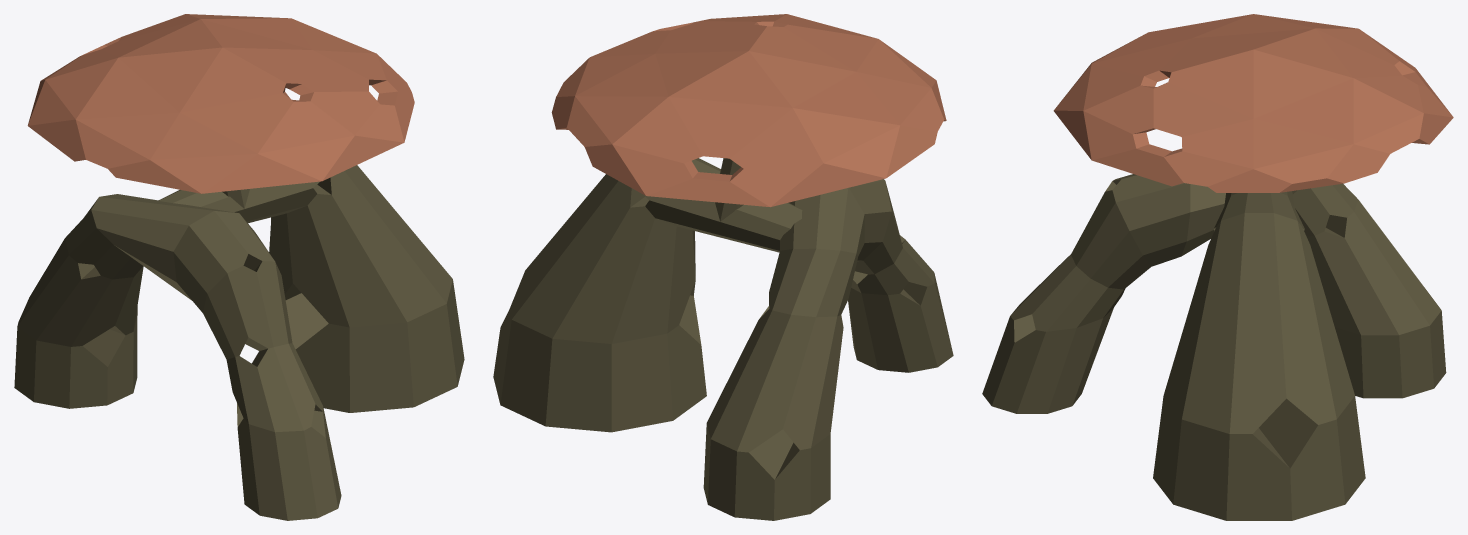
The model's file is Plant_02.fbx.
3 renders of one model, left to right at view 1: azimuth 30°, elevation 25°; view 2: azimuth 150°, elevation 25°; view 3: azimuth 270°, elevation 25°, orthographic. The views are drawn at different scales.
Visible parts, largest first — view 1: Plant_02_Merged; view 2: Plant_02_Merged; view 3: Plant_02_Merged.
Boxes of the visible parts, left/top/right/bottom form: Plant_02_Merged: left=14, top=14, right=464, bottom=520; Plant_02_Merged: left=493, top=14, right=953, bottom=520; Plant_02_Merged: left=982, top=14, right=1453, bottom=520.
Bounding box in the file's own units: 416 × 367 × 431.
